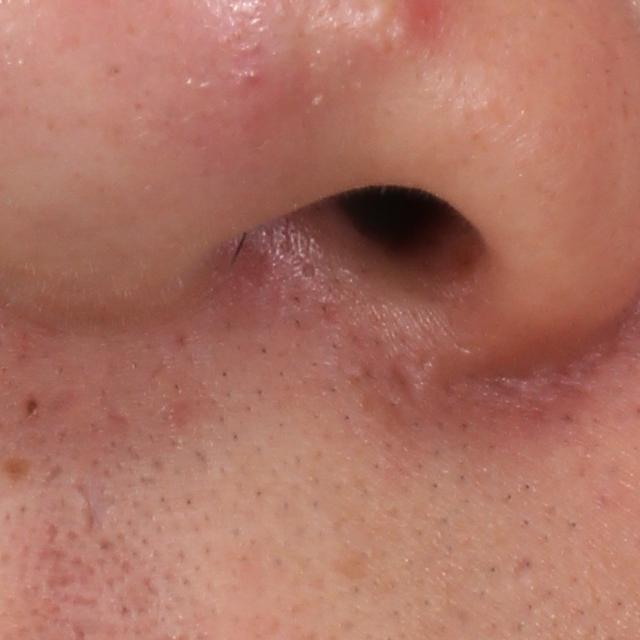atrophic_scar: (385, 354, 418, 411), (74, 478, 100, 538), (41, 462, 65, 490), (102, 407, 133, 425), (70, 596, 102, 610), (142, 576, 162, 598), (24, 391, 38, 421), (47, 520, 58, 548)
